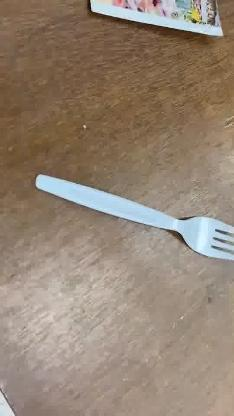Others: (33, 173, 233, 261)
